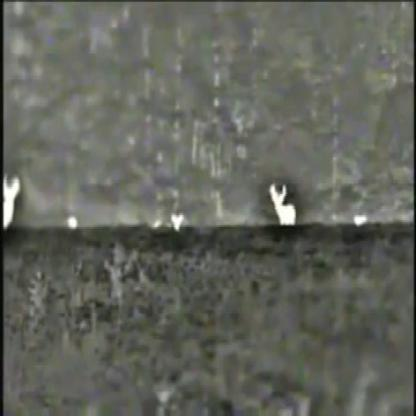rehkitze: (265, 182, 299, 229), (1, 174, 23, 228)
